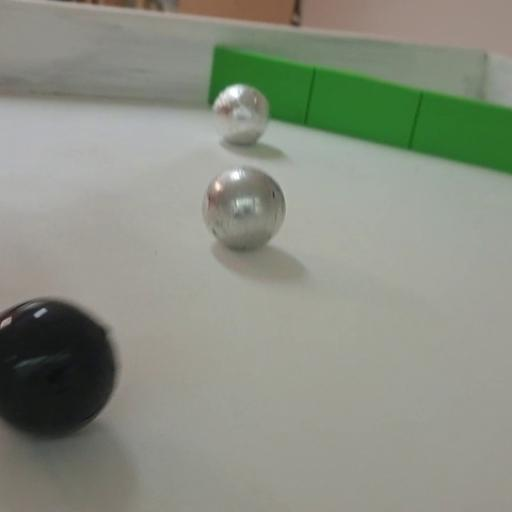alive: (201, 165, 287, 252), (211, 83, 270, 147)
dead: (0, 294, 119, 439)
